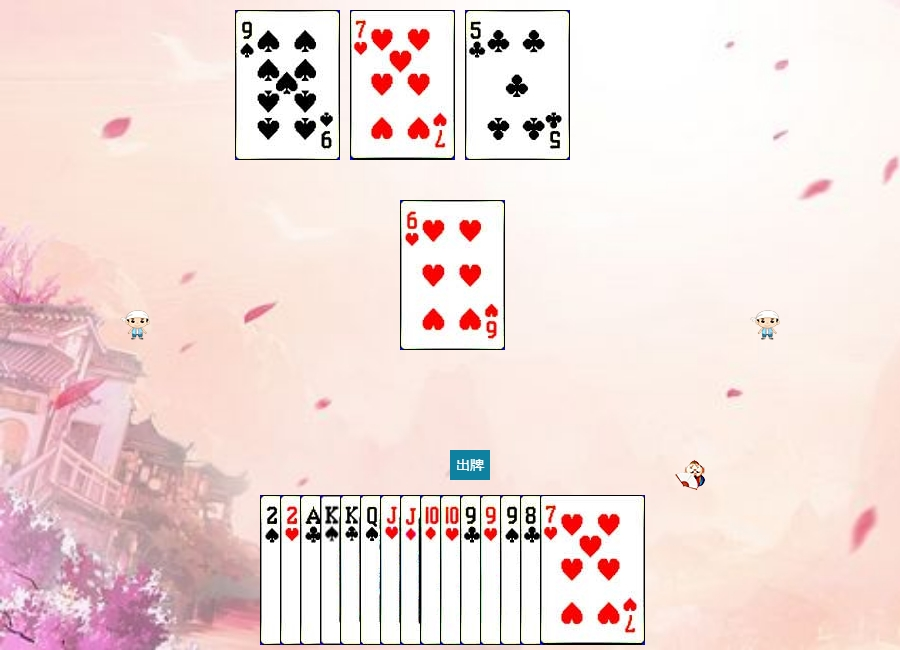10~1: (420, 495, 525, 645)
10~3: (440, 495, 545, 645)
11~1: (400, 495, 505, 645)
11~3: (380, 495, 485, 645)
12~4: (360, 495, 465, 645)
13~2: (340, 495, 445, 645)
13~4: (320, 495, 425, 645)
14~2: (300, 495, 405, 645)
15~3: (280, 495, 385, 645)
15~4: (260, 495, 365, 645)
5~2: (465, 10, 570, 160)
6~3: (400, 200, 505, 350)
7~3: (350, 10, 455, 160), (540, 495, 645, 645)
8~2: (520, 495, 625, 645)
9~2: (460, 495, 565, 645)
9~3: (480, 495, 585, 645)
9~4: (235, 10, 340, 160), (500, 495, 605, 645)
